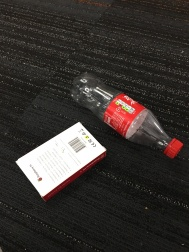bottle_red: (66, 67, 185, 162)
